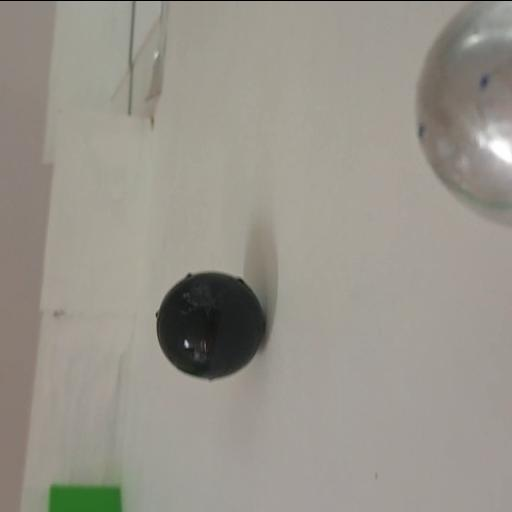alive: (411, 0, 512, 225)
dead: (154, 269, 270, 379)
